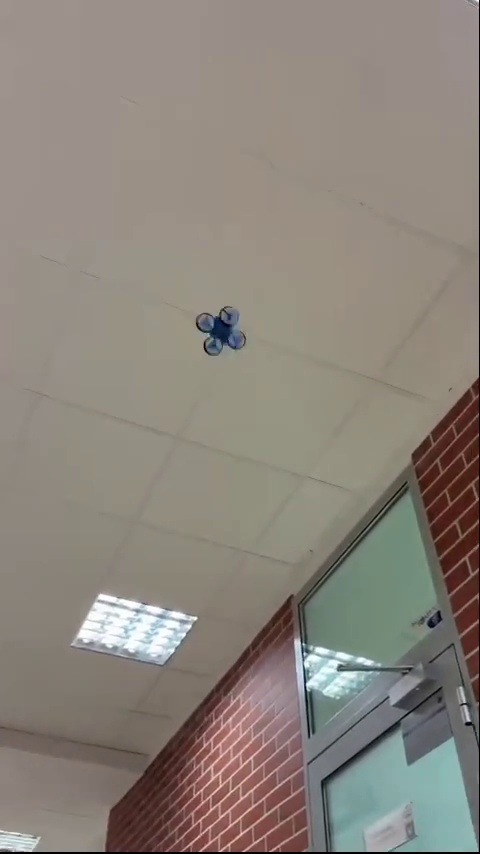drone: (195, 306, 248, 360)
